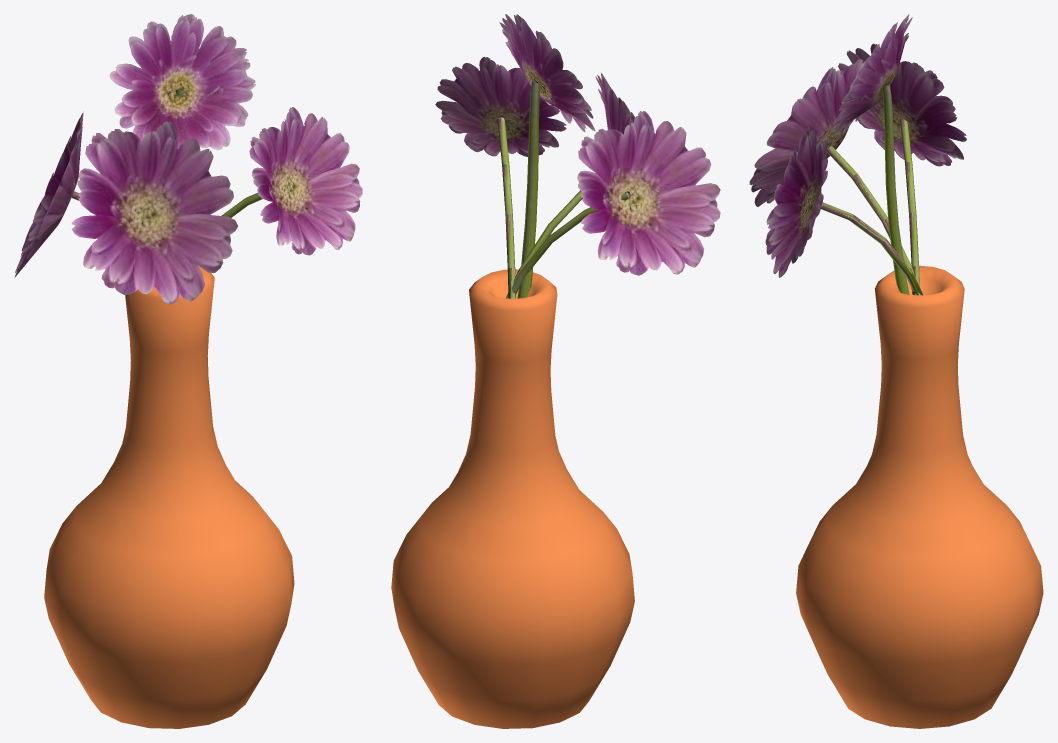
The model's file is coffeeshop_plant_level03.glb.
The picture shows the model from 3 angles, left to right: view 1: azimuth 30°, elevation 25°; view 2: azimuth 150°, elevation 25°; view 3: azimuth 270°, elevation 25°; orthographic projection. The views are drawn at different scales.
Parts seen in each view (by area): view 1: Level3_Flowers; view 2: Level3_Flowers; view 3: Level3_Flowers.
Boxes of the visible parts, bbox=[...] form: Level3_Flowers: bbox=[14, 14, 362, 728]; Level3_Flowers: bbox=[391, 14, 720, 728]; Level3_Flowers: bbox=[749, 14, 1043, 728].
Bounding box in the file's own units: 0.8478 × 1.82 × 0.7061.
Materials: 2 (1 with a texture image).
